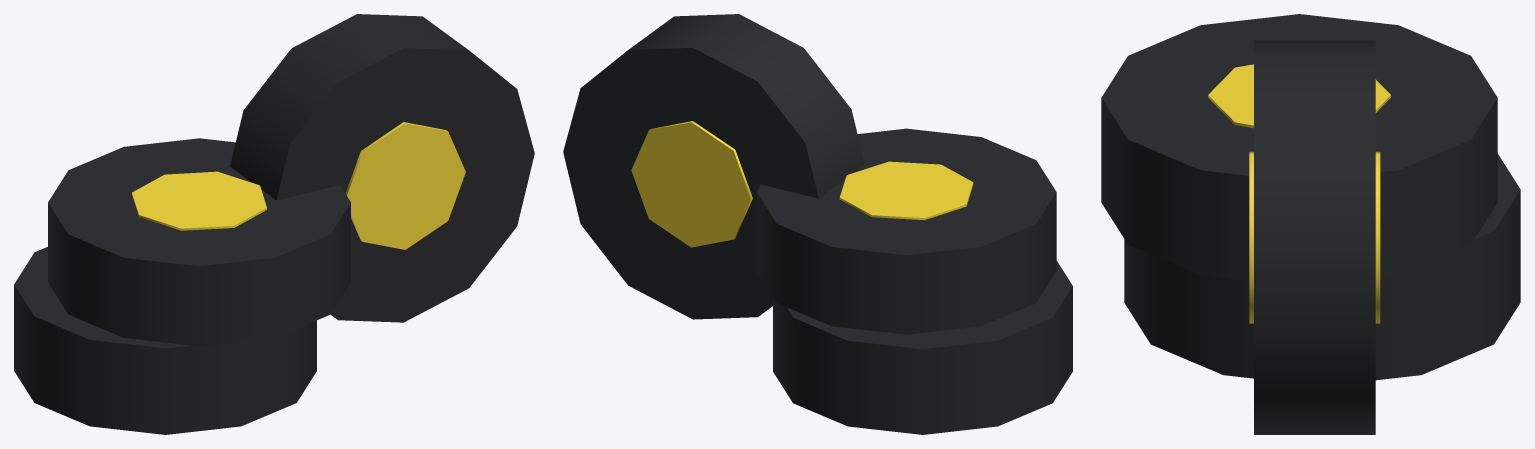
Rendered from site_clutter4.fbx.
3 renders of one model, left to right at view 1: azimuth 30°, elevation 25°; view 2: azimuth 150°, elevation 25°; view 3: azimuth 270°, elevation 25°, orthographic. The views are drawn at different scales.
Visible parts, largest first — view 1: a1089/0/site_clutter4; view 2: a1089/0/site_clutter4; view 3: a1089/0/site_clutter4.
Boxes of the visible parts, bbox=[...] form: a1089/0/site_clutter4: bbox=[14, 14, 534, 434]; a1089/0/site_clutter4: bbox=[563, 14, 1072, 434]; a1089/0/site_clutter4: bbox=[1101, 14, 1520, 434].
Size of the model in its own units: 4.7 by 2.75 by 2.75.
